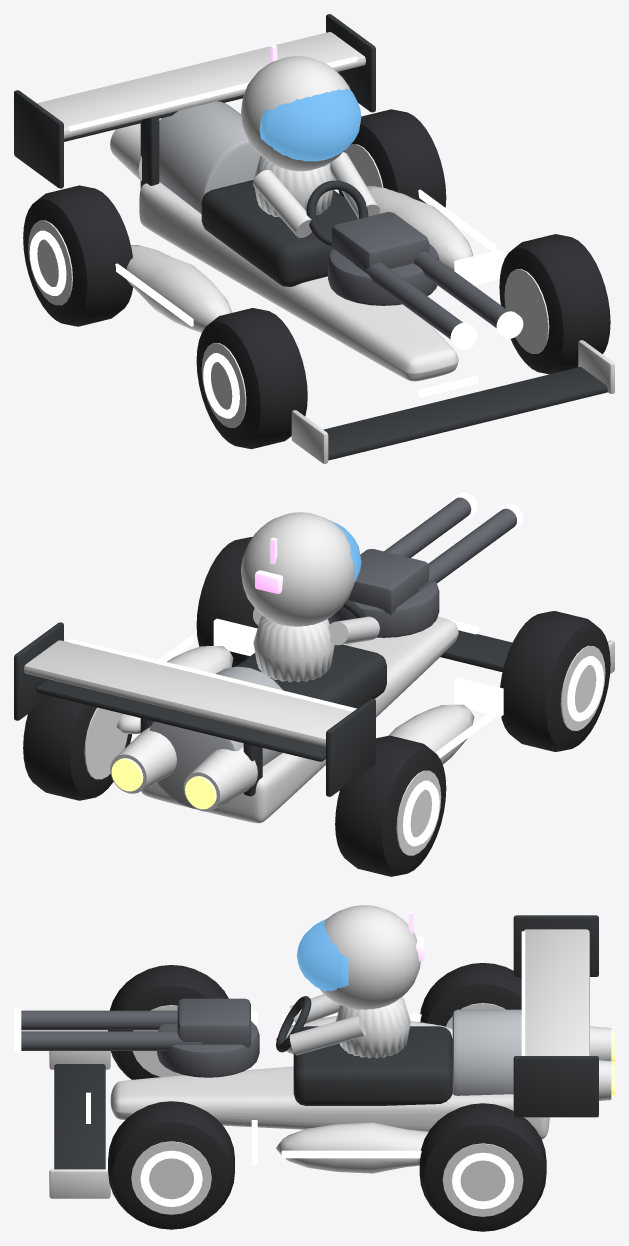
Rendered from kart.glb.
The picture shows the model from 3 angles, top to bottom: view 1: azimuth 30°, elevation 25°; view 2: azimuth 150°, elevation 25°; view 3: azimuth 270°, elevation 25°; orthographic projection. The views are drawn at different scales.
Parts seen in each view (by area): view 1: Kart_Paint, Kart_Carbon, Turret, Wheel_FL, Wheel_RL, Wheel_FR, Kart_Steel, Wheel_RR, Kart_Visor, Kart_Suit, Kart_Neon, Kart_Chrome; view 2: Kart_Paint, Kart_Carbon, Wheel_FL, Wheel_RL, Turret, Wheel_RR, Kart_Suit, Kart_Neon, Kart_Chrome, Wheel_FR, Kart_Steel, Kart_Exhaust (+1 smaller); view 3: Kart_Paint, Kart_Carbon, Wheel_FR, Wheel_RR, Turret, Kart_Steel, Kart_Suit, Wheel_FL, Wheel_RL, Kart_Visor, Kart_Neon, Kart_Chrome.
Part boxes in pixels (x1=…): Kart_Paint: x1=37, y1=32, x2=614, y2=463; Kart_Carbon: x1=14, y1=14, x2=607, y2=460; Turret: x1=328, y1=212, x2=523, y2=349; Wheel_FL: x1=196, y1=308, x2=307, y2=449; Wheel_RL: x1=23, y1=185, x2=133, y2=326; Wheel_FR: x1=499, y1=234, x2=610, y2=374; Kart_Steel: x1=159, y1=101, x2=260, y2=213; Wheel_RR: x1=338, y1=109, x2=446, y2=207; Kart_Visor: x1=259, y1=88, x2=361, y2=161; Kart_Suit: x1=253, y1=152, x2=379, y2=237; Kart_Neon: x1=68, y1=56, x2=503, y2=326; Kart_Chrome: x1=110, y1=123, x2=141, y2=180; Kart_Paint: x1=24, y1=512, x2=614, y2=823; Kart_Carbon: x1=14, y1=599, x2=512, y2=796; Wheel_FL: x1=500, y1=611, x2=610, y2=751; Wheel_RL: x1=335, y1=735, x2=446, y2=876; Turret: x1=330, y1=492, x2=523, y2=637; Wheel_RR: x1=23, y1=696, x2=131, y2=800; Kart_Suit: x1=253, y1=608, x2=379, y2=682; Kart_Neon: x1=68, y1=618, x2=503, y2=758; Kart_Chrome: x1=110, y1=726, x2=257, y2=811; Wheel_FR: x1=196, y1=537, x2=258, y2=667; Kart_Steel: x1=149, y1=666, x2=283, y2=808; Kart_Exhaust: x1=111, y1=758, x2=216, y2=809; Kart_Paint: x1=49, y1=905, x2=589, y2=1198; Kart_Carbon: x1=54, y1=915, x2=598, y2=1169; Wheel_FR: x1=108, y1=1101, x2=234, y2=1229; Wheel_RR: x1=419, y1=1103, x2=546, y2=1231; Turret: x1=14, y1=998, x2=259, y2=1077; Kart_Steel: x1=452, y1=1009, x2=521, y2=1095; Kart_Suit: x1=289, y1=994, x2=410, y2=1058; Wheel_FL: x1=108, y1=965, x2=228, y2=1079; Wheel_RL: x1=420, y1=963, x2=521, y2=1028; Kart_Visor: x1=296, y1=918, x2=348, y2=991; Kart_Neon: x1=251, y1=931, x2=525, y2=1164; Kart_Chrome: x1=590, y1=1026, x2=611, y2=1100.
Bounding box in the file's own units: 3.3 × 2.21 × 4.92.
